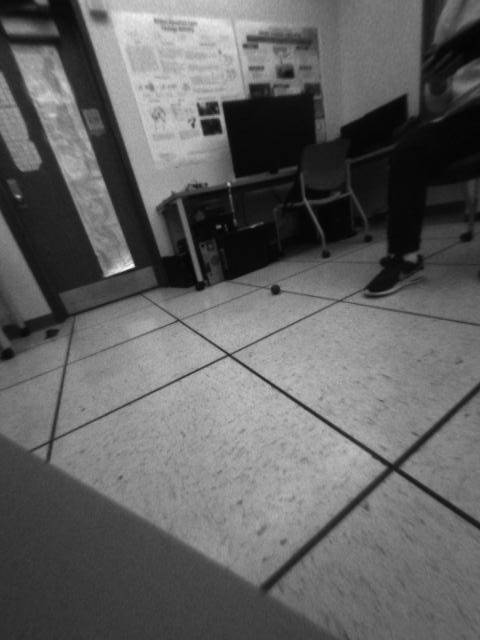dogtoy: (264, 275, 288, 301)
